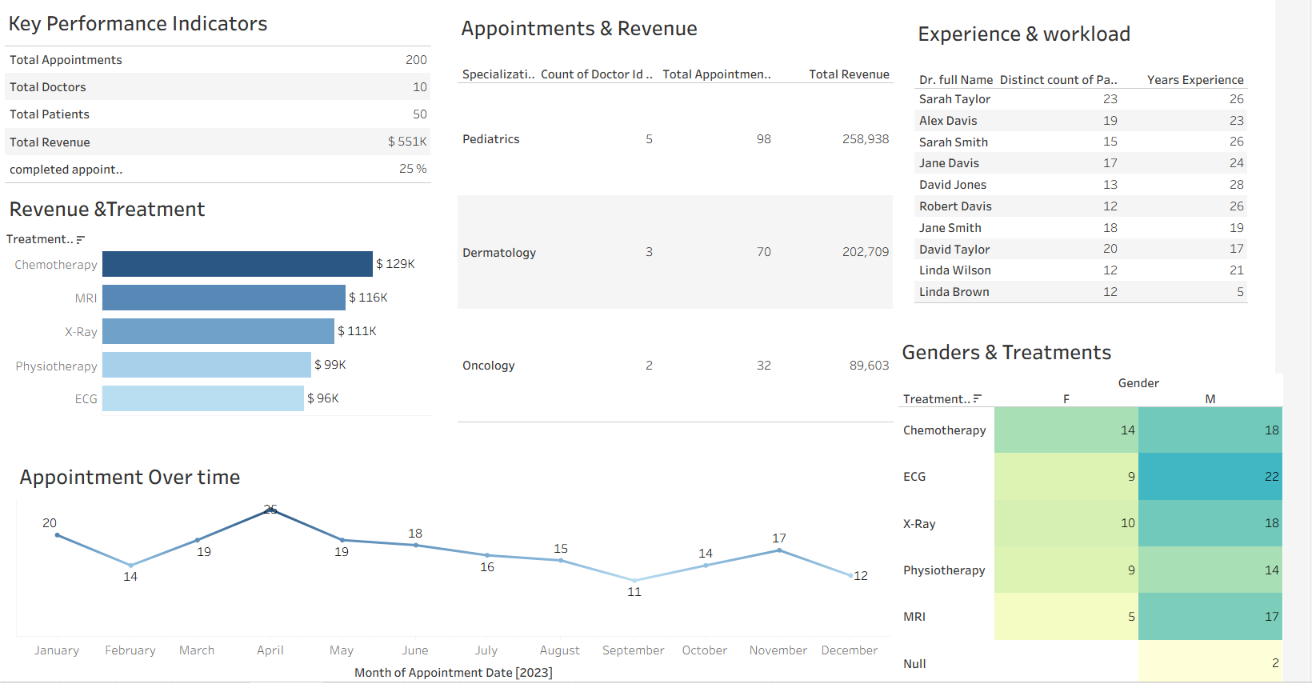

The page's visual inventory and layout, read from the dashboard file:
{"tool":"tableau","page":{"name":"Canvas 1","canvas":[1600,900],"ordinal":0},"visuals":[{"type":"worksheet","title":"KPI","mark":"Automatic","box":[12,7,533,222]},{"type":"worksheet","title":"Visual 5& 6","mark":"Automatic","rows":["specialization"],"box":[578,13,545,515]},{"type":"worksheet","title":"Visual 4","mark":"Automatic","rows":["Calculation_0128161224204292"],"box":[1149,20,417,359]},{"type":"worksheet","title":"Visual 2","mark":"Automatic","rows":["treatment_type"],"cols":["cost"],"box":[13,239,533,281]},{"type":"worksheet","title":"Visual 3","mark":"Automatic","rows":["Calculation_0128161214521346"],"cols":["appointment_date"],"box":[26,574,1094,284]}]}

Visuals, with their boxes on the page's 1600x900 design canvas (x1, y1, x2, y2). These are canvas units, not pixel positions in the 1312x683 screenshot, which may show the page scaled, cropped or inside an application window:
"KPI" worksheet: bbox=(12, 7, 545, 229)
"Visual 5& 6" worksheet: bbox=(578, 13, 1123, 528)
"Visual 4" worksheet: bbox=(1149, 20, 1566, 379)
"Visual 2" worksheet: bbox=(13, 239, 546, 520)
"Visual 3" worksheet: bbox=(26, 574, 1120, 858)
